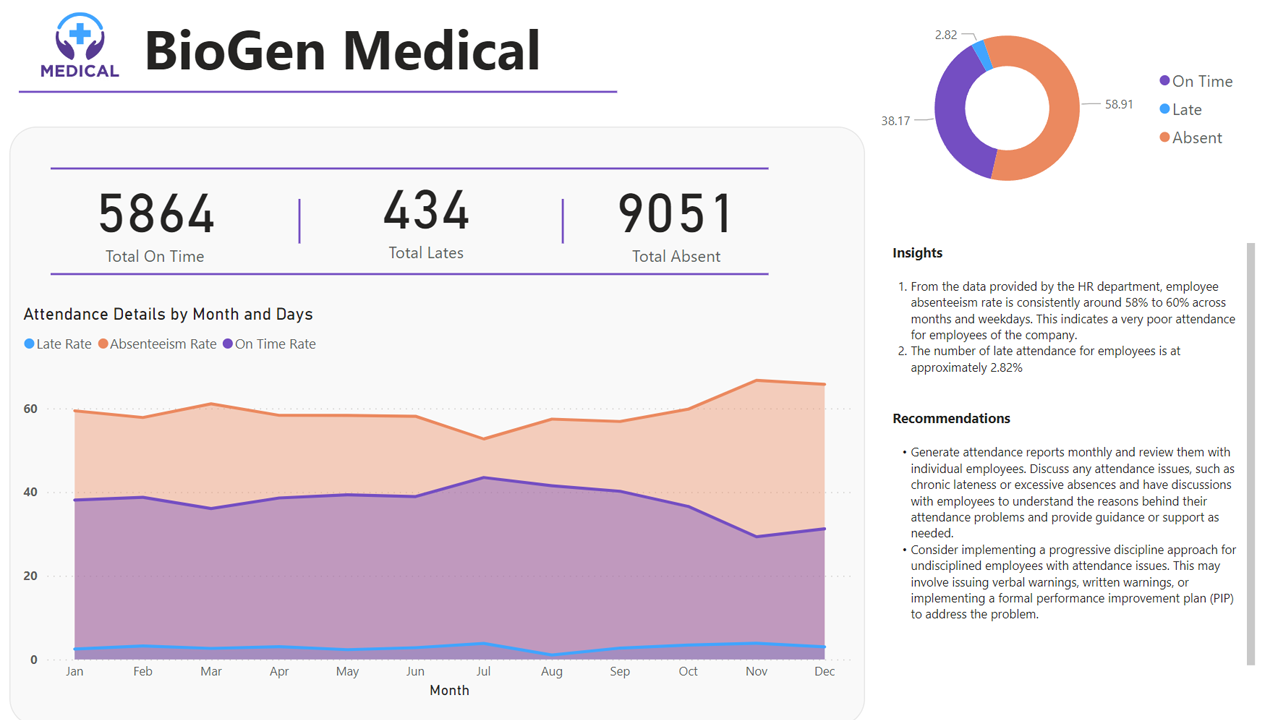

This screenshot's page, from the dashboard's own definition file:
{"tool":"powerbi","page":{"name":"Q2","canvas":[1280,720],"ordinal":1},"visuals":[{"type":"shape","box":[9.8,127.6,844.8,592.2],"z":0},{"type":"areaChart","title":"Attendance Details by Month and Days","fields":{"Category":["Date.Year","Date.Month","Date.DayText"],"Y":["schedules_clean.late_rate","schedules_clean.abseneeism_rate","schedules_clean.on_time_rate"]},"box":[18.3,303,828.5,394.6],"z":1000},{"type":"textbox","box":[876.9,237.5,368.4,430.6],"z":2000},{"type":"donutChart","fields":{"Y":["schedules_clean.on_time_rate","schedules_clean.late_rate","schedules_clean.abseneeism_rate"]},"box":[841.6,8.5,392,202.2],"z":3000},{"type":"textbox","box":[137.4,8.5,418.8,89],"z":4000},{"type":"shape","box":[19,81.1,590.9,24.2],"z":5000},{"type":"image","box":[19,4.6,118.4,89],"z":6000},{"type":"card","fields":{"Values":["Attendance_Summary.Total On Time"]},"box":[46.5,141.3,214.6,150.5],"z":7000},{"type":"card","fields":{"Values":["Attendance_Summary.Total Lates"]},"box":[314.1,138.1,214.6,150.5],"z":8000},{"type":"card","fields":{"Values":["Attendance_Summary.Total Absent"]},"box":[561.5,141.3,214.6,150.5],"z":9000},{"type":"shape","box":[51,261.8,709.4,24.2],"z":10000},{"type":"shape","box":[51,157.1,709.4,24.2],"z":11000},{"type":"shape","box":[191.1,198.9,210.1,44.5],"z":12000},{"type":"shape","box":[401.1,198.9,310.2,44.5],"z":13000}]}

Visuals, with their boxes in screenshot pixels (x1, y1, x2, y2), scaled from the page's 1280x720 canvas onto the 1280x720 screenshot:
shape: BBox(10, 128, 855, 719)
"Attendance Details by Month and Days" areaChart: BBox(18, 303, 847, 698)
textbox: BBox(877, 238, 1245, 668)
donutChart - schedules_clean.on_time_rate x schedules_clean.late_rate: BBox(842, 8, 1234, 211)
textbox: BBox(137, 8, 556, 98)
shape: BBox(19, 81, 610, 105)
image: BBox(19, 5, 137, 94)
card - Attendance_Summary.Total On Time: BBox(46, 141, 261, 292)
card - Attendance_Summary.Total Lates: BBox(314, 138, 529, 289)
card - Attendance_Summary.Total Absent: BBox(562, 141, 776, 292)
shape: BBox(51, 262, 760, 286)
shape: BBox(51, 157, 760, 181)
shape: BBox(191, 199, 401, 243)
shape: BBox(401, 199, 711, 243)
